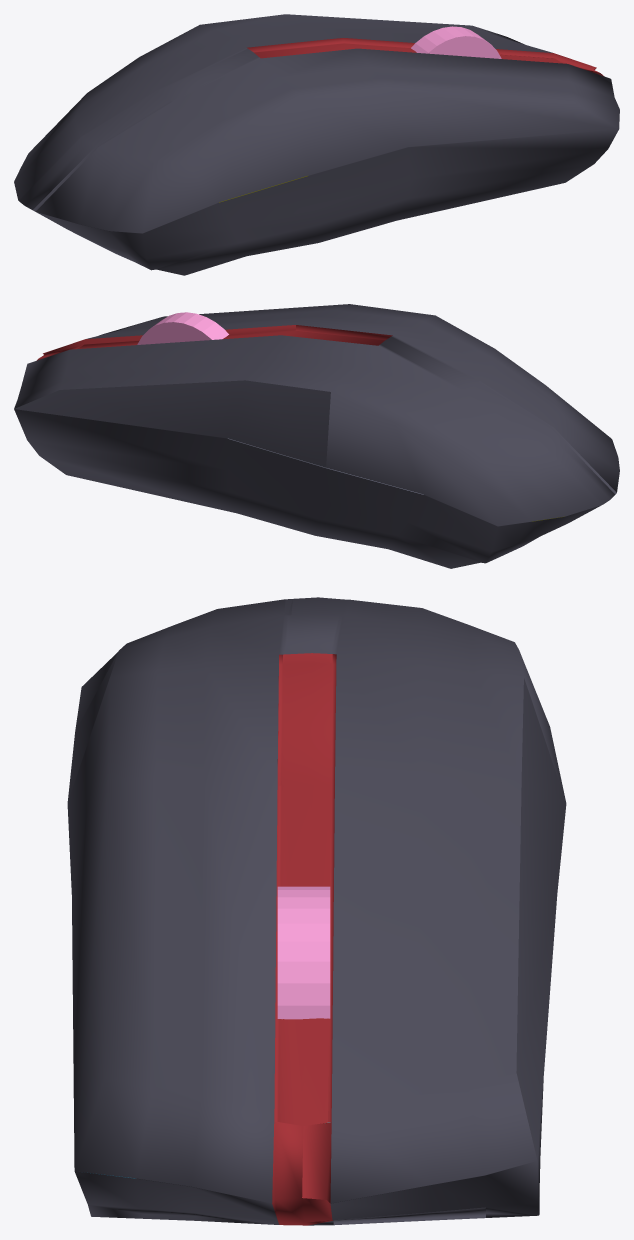
File: Mouse_DylanF_47066873.fbx
3 renders of one model, top to bottom at view 1: azimuth 30°, elevation 25°; view 2: azimuth 150°, elevation 25°; view 3: azimuth 270°, elevation 25°, orthographic. The views are drawn at different scales.
Visible parts, largest first — view 1: Ruedita; view 2: Ruedita; view 3: Ruedita.
Part boxes in pixels (x1,y1,x2,y2): Ruedita: [14, 14, 619, 275]; Ruedita: [14, 304, 619, 568]; Ruedita: [67, 597, 566, 1225].
Bounding box in the file's own units: 699 × 180 × 263.
Materials: 1 (1 with a texture image).
